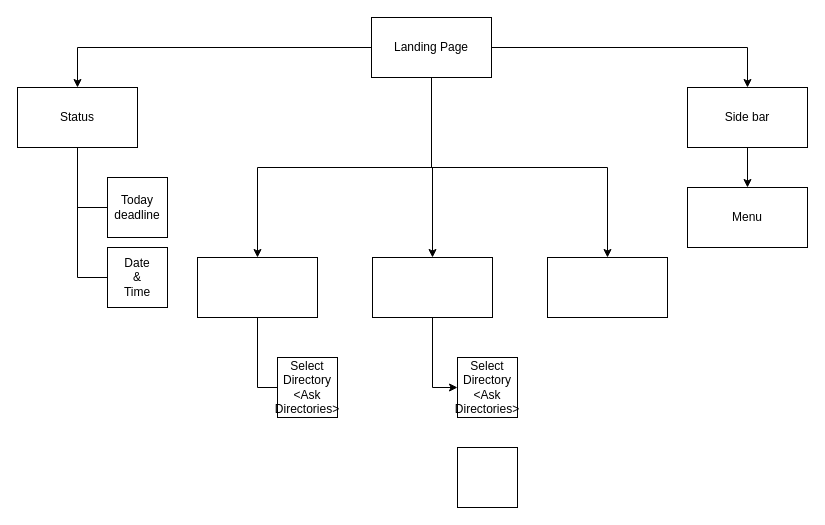
This 825x525 diagram has some shape labels left out. Each missing label, with the centre of its shape:
"Data: Image number" goes at pixel 487 477.
"QC" goes at pixel 432 287.
"Submit" goes at pixel 607 287.
"To Send" goes at pixel 257 287.
